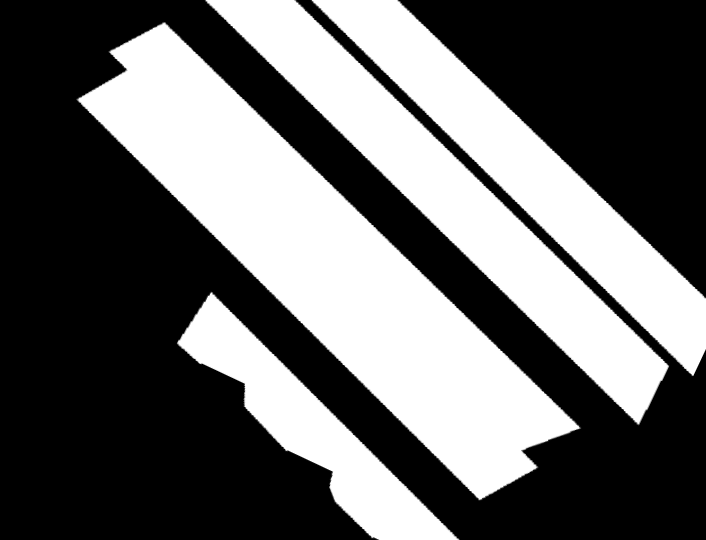parkingspot: (77, 22, 580, 500), (206, 0, 669, 425), (312, 0, 706, 376), (177, 292, 459, 540)
